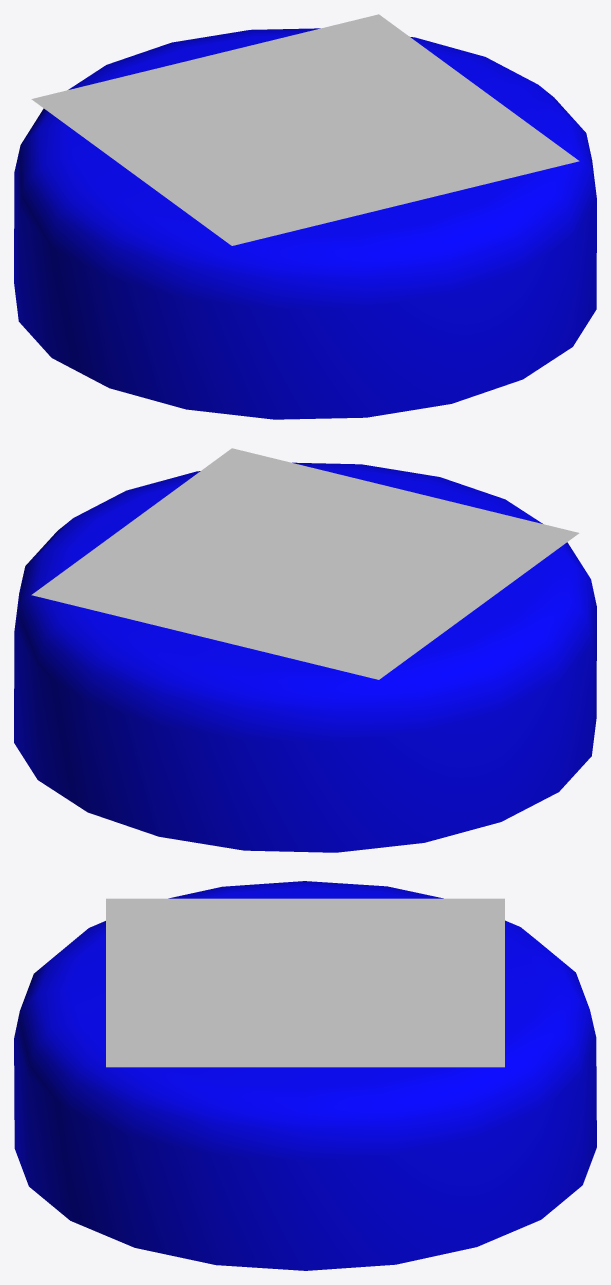
Rendered from button_02.FBX.
3 views of the same model, one above another, from view 1: azimuth 30°, elevation 25°; view 2: azimuth 150°, elevation 25°; view 3: azimuth 270°, elevation 25° (orthographic).
Parts seen in each view (by area): view 1: button_02; view 2: button_02; view 3: button_02.
Part boxes in pixels (<box>): button_02: <box>14,14,596,419</box>; button_02: <box>14,448,596,852</box>; button_02: <box>14,881,596,1270</box>.
Bounding box in the file's own units: 6.38 × 2 × 6.39.
